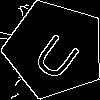U: (30, 24, 89, 84)
